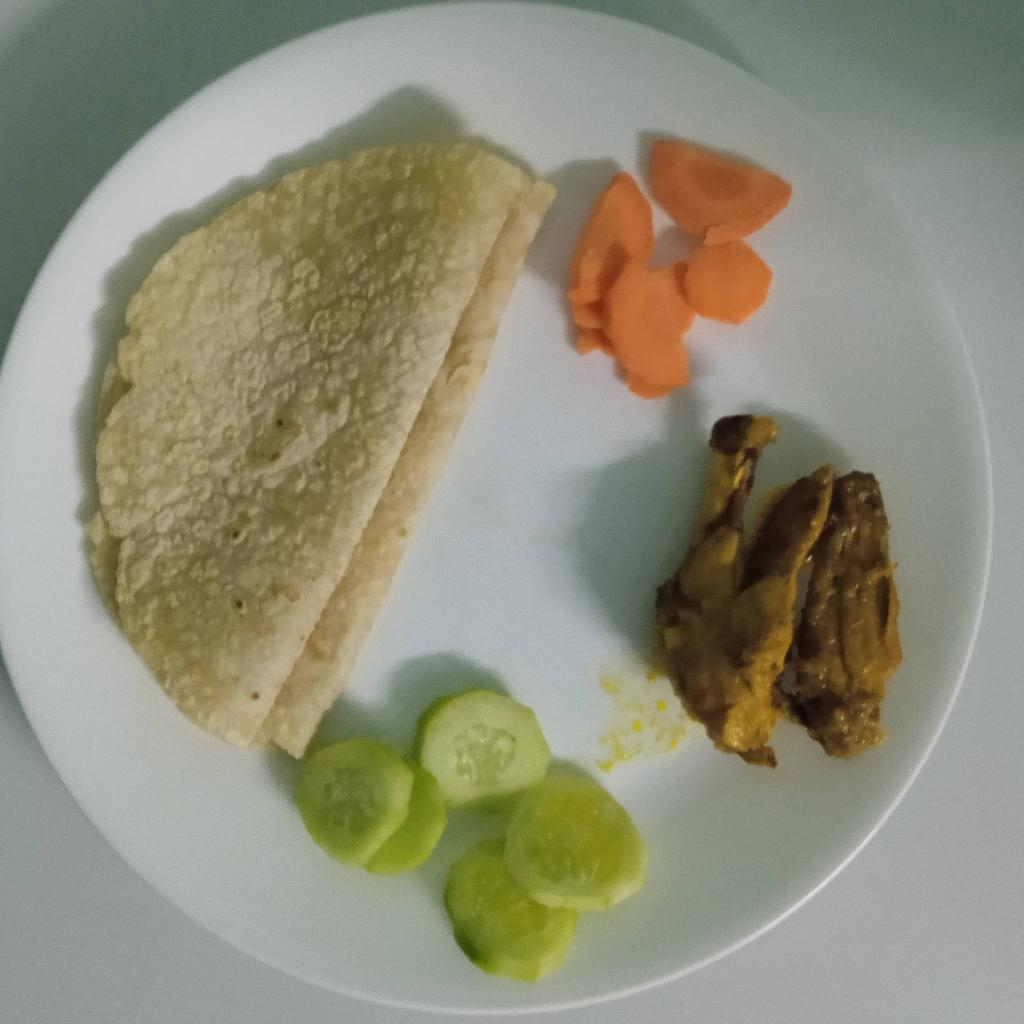carrot: (564, 134, 802, 394)
chicken: (655, 415, 906, 771)
cucumber: (281, 684, 648, 987)
ruti: (94, 137, 560, 762)
